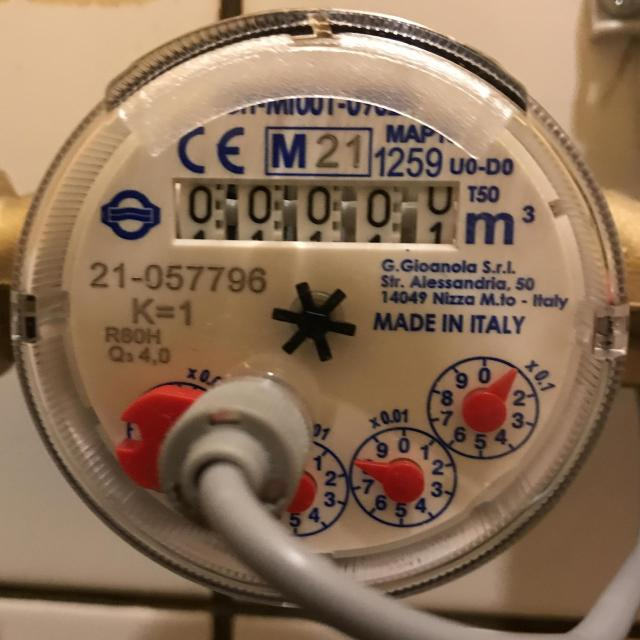gaz_meter: (12, 14, 634, 591)
indication: (170, 178, 460, 248)
